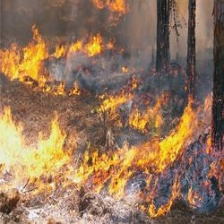fire: (2, 110, 221, 212), (4, 30, 131, 101)
